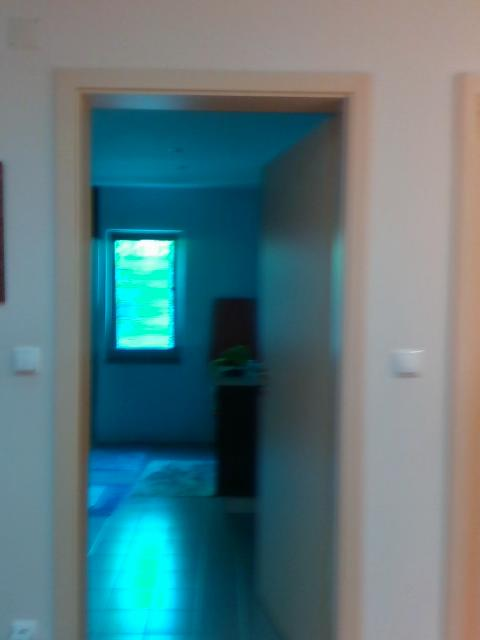open_door: (52, 66, 365, 638)
